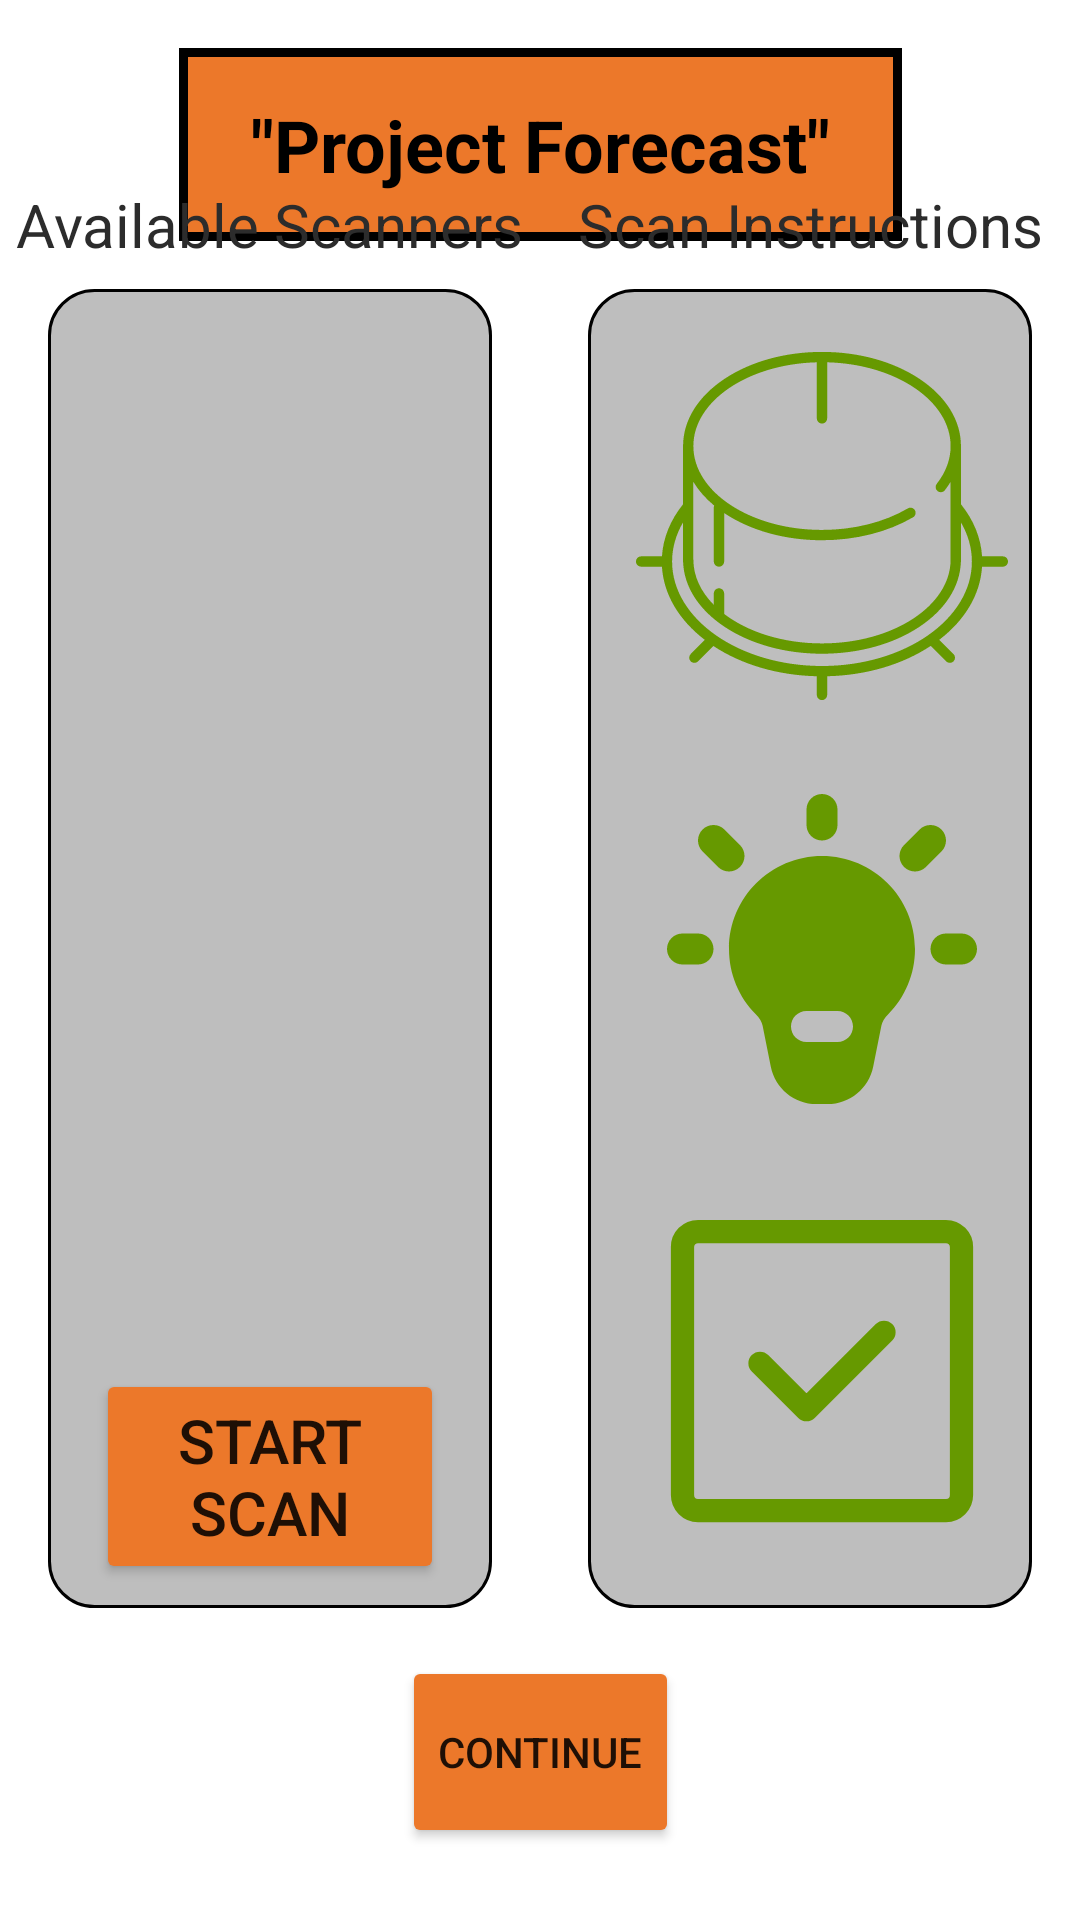

Icons on this 1080 × 1920 Android screen, each with its box as (x1, y1, x2, y2):
bulb on: (667, 794, 977, 1104)
check mark square: (671, 1220, 973, 1523)
